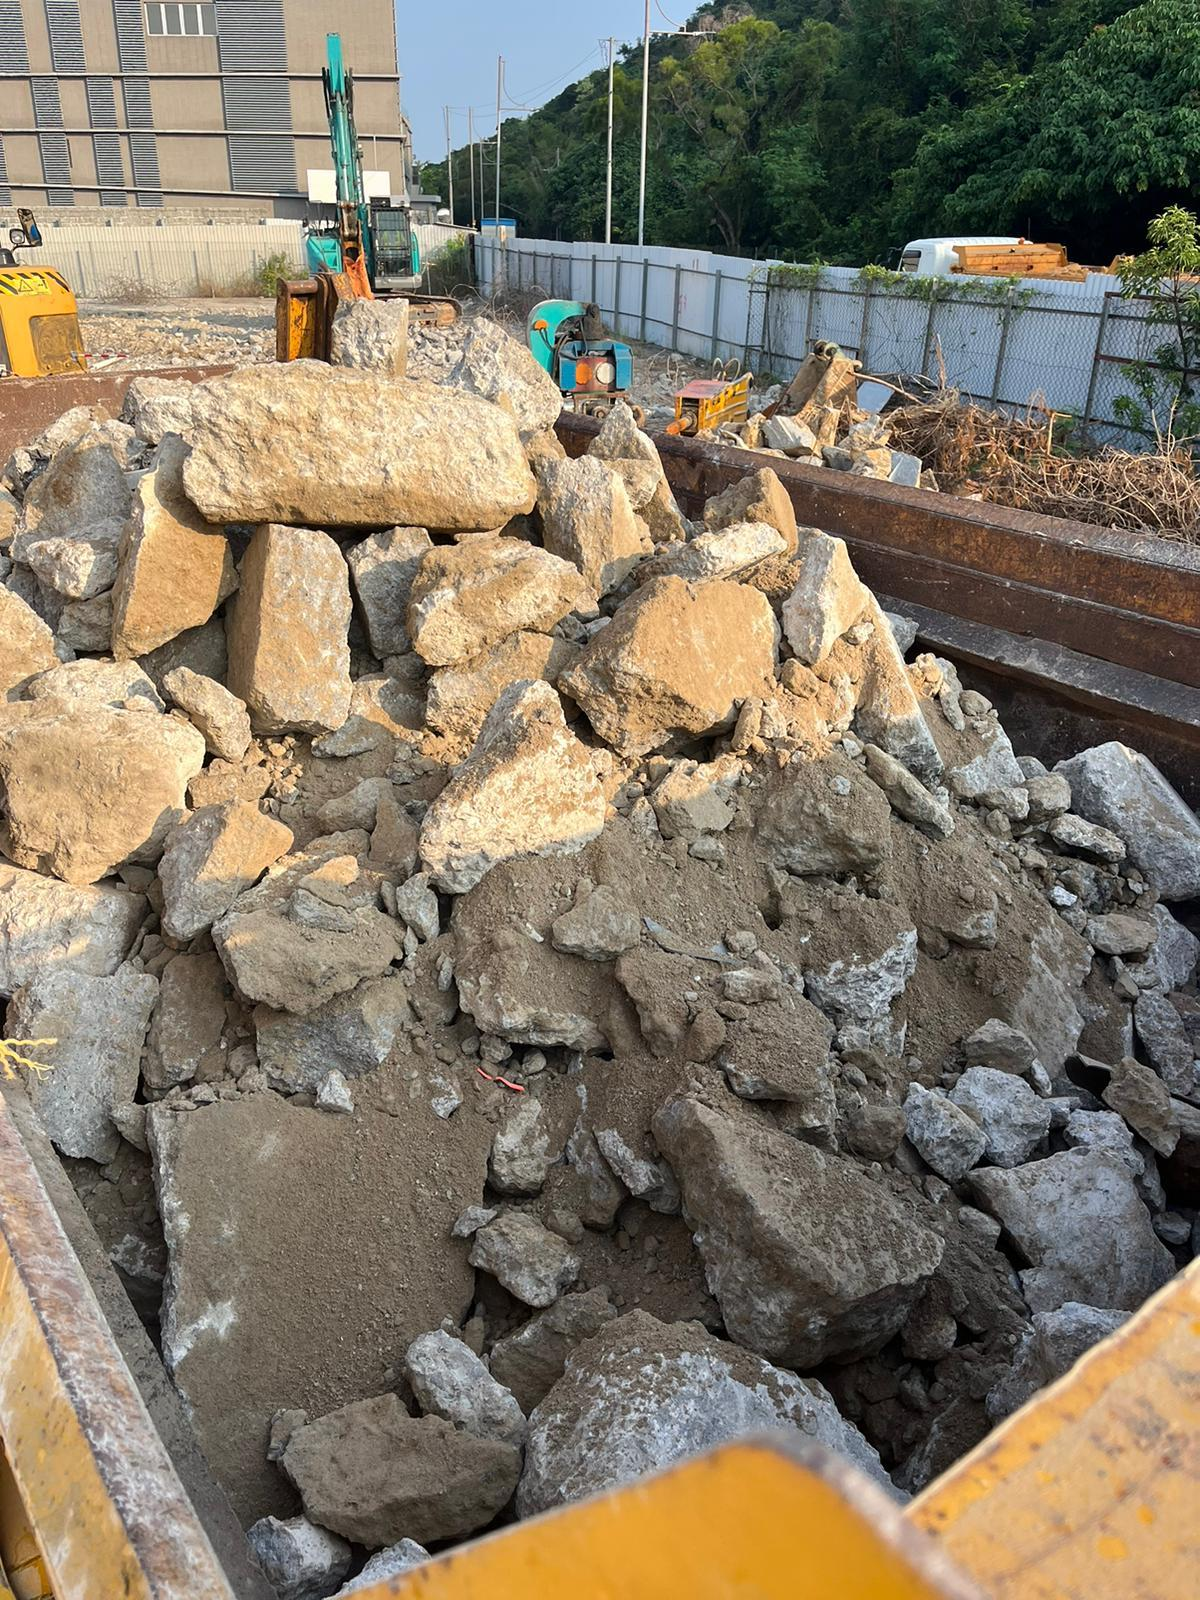dry: (10, 325, 1185, 1567)
